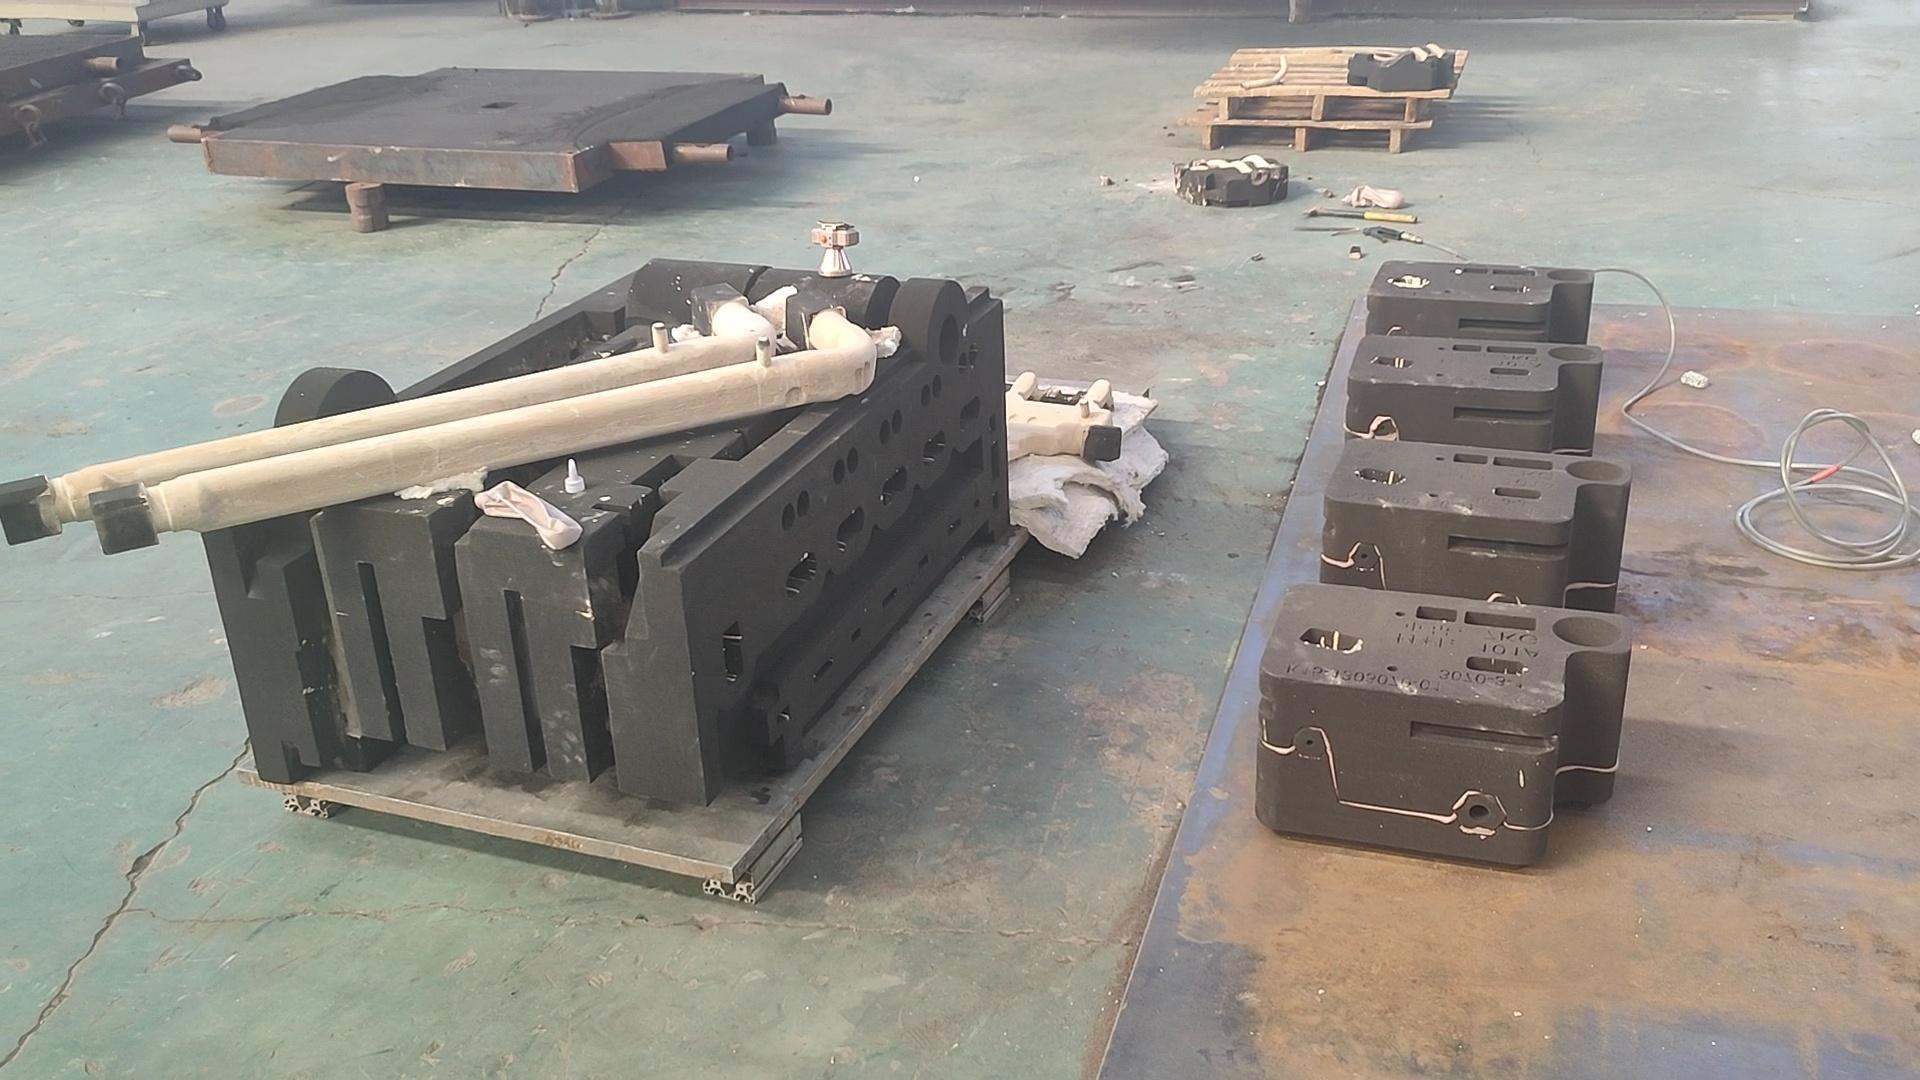pouring hole: (1551, 615, 1621, 647), (1565, 460, 1626, 481), (938, 315, 961, 367), (1548, 345, 1596, 361), (1545, 269, 1592, 282)
